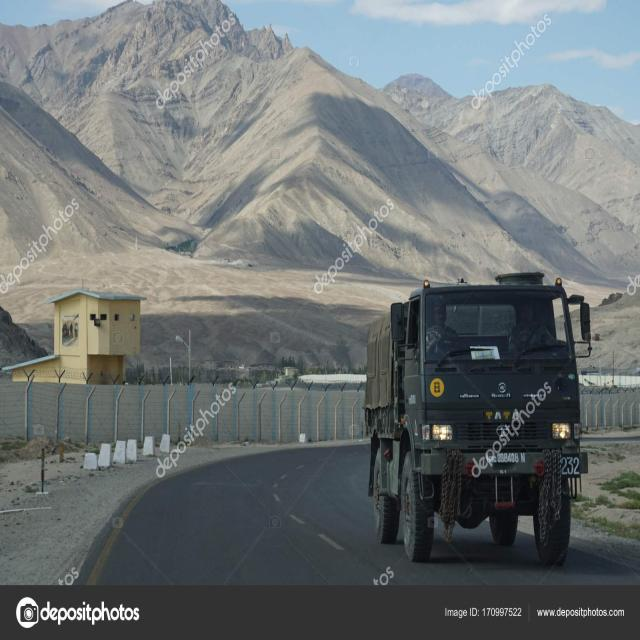truck: (365, 274, 590, 564)
